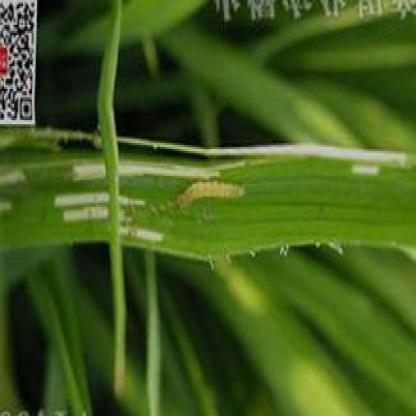leaf-folder: (154, 170, 252, 224)
